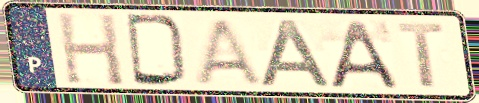A: (256, 16, 337, 90), (191, 16, 269, 88), (326, 18, 402, 90)
D: (122, 11, 191, 88)
H: (53, 10, 127, 88)
T: (394, 21, 447, 90)
